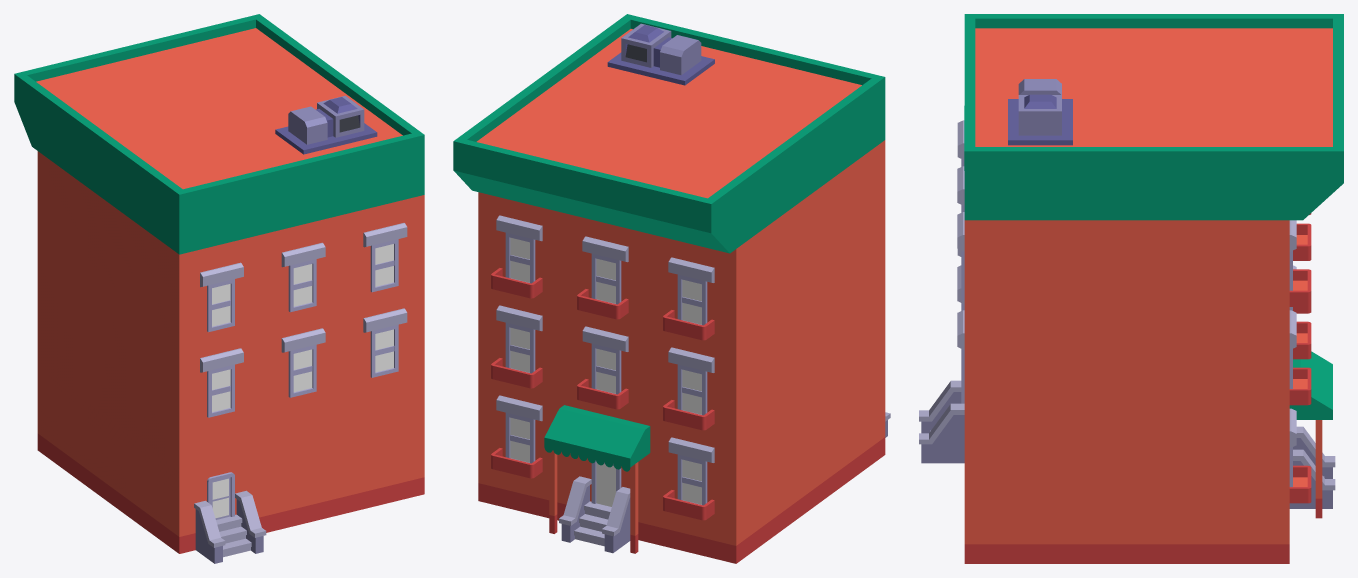
File: Building_04.fbx
3 views of the same model, side by side, from view 1: azimuth 30°, elevation 25°; view 2: azimuth 150°, elevation 25°; view 3: azimuth 270°, elevation 25° (orthographic). The views are drawn at different scales.
Visible parts, largest first — view 1: mergedBlocks; view 2: mergedBlocks; view 3: mergedBlocks.
Boxes of the visible parts, bbox=[...] form: mergedBlocks: bbox=[14, 14, 424, 563]; mergedBlocks: bbox=[453, 14, 890, 563]; mergedBlocks: bbox=[919, 14, 1343, 563].
Size of the model in its own units: 150 by 222 by 196.
